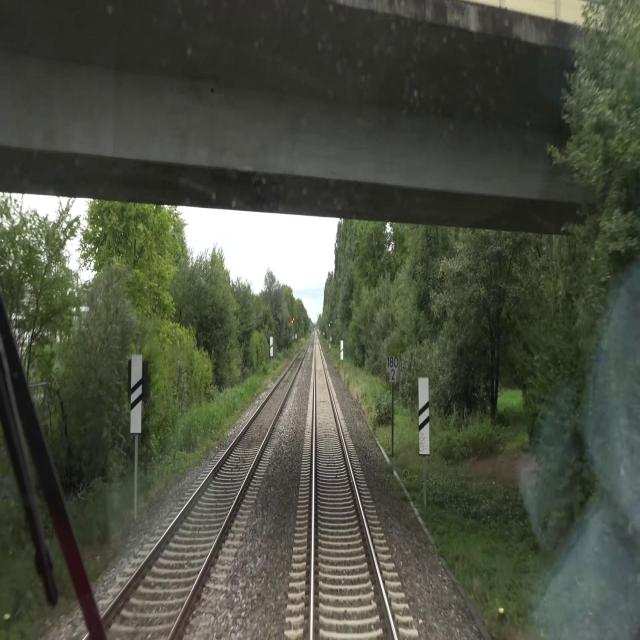rail-track: (87, 342, 308, 639), (314, 341, 393, 639)
